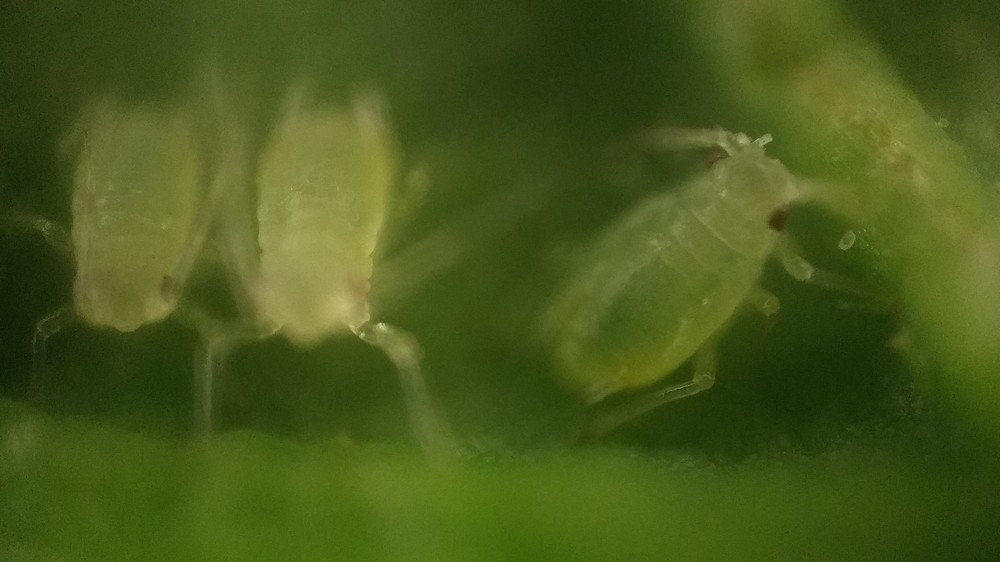Pulgon: (502, 119, 905, 450), (189, 63, 508, 446), (13, 69, 232, 403)
